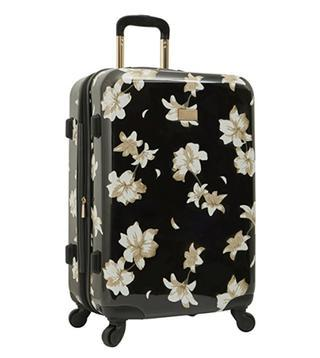suitcase: (60, 60, 258, 325)
